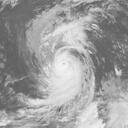cyclone: (35, 32, 95, 101)
